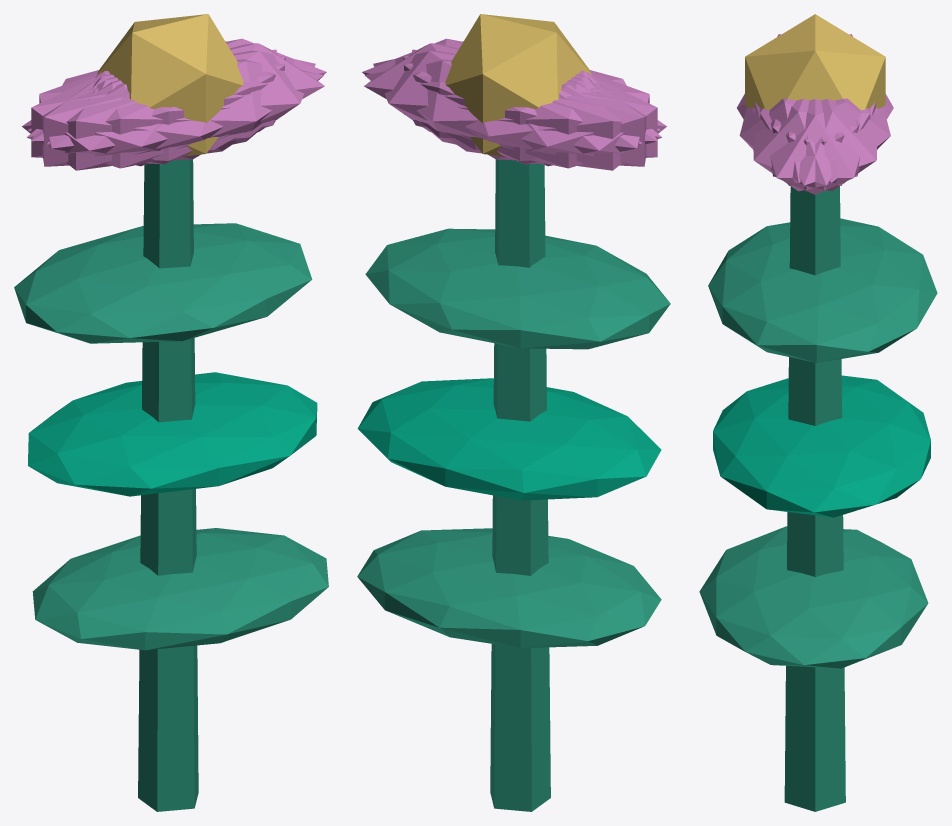
File: ruellia-prostrata.glb
3 renders of one model, left to right at view 1: azimuth 30°, elevation 25°; view 2: azimuth 150°, elevation 25°; view 3: azimuth 270°, elevation 25°, orthographic.
Visible parts, largest first — view 1: leaf0, leaf2, leaf1, stem, center, petal1, petal6, petal2, petal5, petal7, petal0, petal4 (+2 smaller); view 2: leaf2, leaf1, leaf0, stem, center, petal8, petal3, petal7, petal4, petal2, petal0, petal5 (+2 smaller); view 3: leaf2, leaf0, leaf1, stem, center, petal0, petal5, petal4, petal1, petal8.
Part boxes in pixels (x1,y1,x2,y2): leaf0: (32, 528, 328, 650); leaf2: (14, 223, 312, 343); leaf1: (28, 372, 317, 496); stem: (138, 159, 198, 811); center: (97, 14, 243, 156); petal1: (26, 59, 323, 168); petal6: (22, 72, 237, 170); petal2: (42, 49, 276, 166); petal5: (47, 50, 315, 160); petal7: (31, 56, 285, 164); petal0: (96, 43, 324, 150); petal4: (28, 38, 326, 141); leaf2: (365, 228, 670, 349); leaf1: (357, 378, 661, 500); leaf0: (357, 528, 661, 648); stem: (490, 159, 550, 811); center: (445, 14, 591, 156); petal8: (365, 59, 661, 168); petal3: (451, 72, 666, 170); petal7: (412, 49, 646, 166); petal4: (373, 50, 641, 160); petal2: (403, 56, 657, 164); petal0: (364, 43, 592, 150); petal5: (362, 38, 660, 141); leaf2: (708, 218, 937, 362); leaf0: (699, 526, 928, 668); leaf1: (713, 375, 930, 517); stem: (784, 186, 845, 811); center: (745, 14, 885, 110); petal0: (755, 99, 875, 194); petal5: (753, 99, 870, 191); petal4: (760, 99, 877, 191); petal1: (739, 98, 859, 182); petal8: (770, 98, 890, 182).
Bounding box in the file's own units: 0.1452 × 0.3676 × 0.1036.
